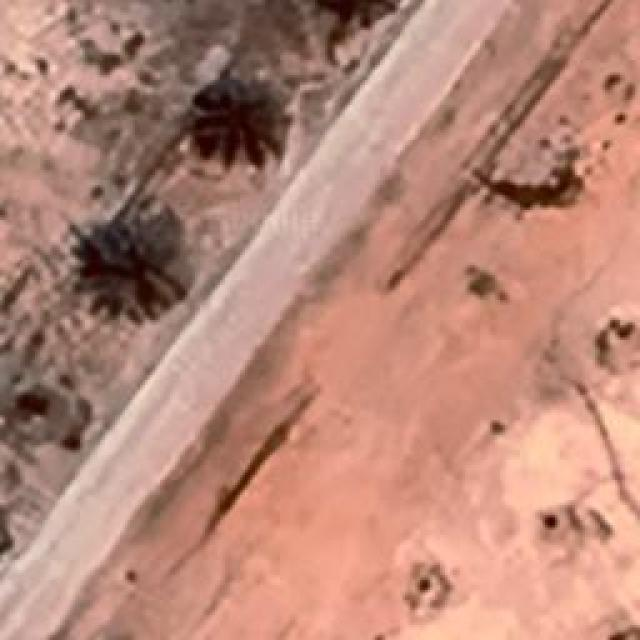PalmTree: (82, 218, 180, 318), (196, 80, 286, 160), (316, 0, 403, 29)
